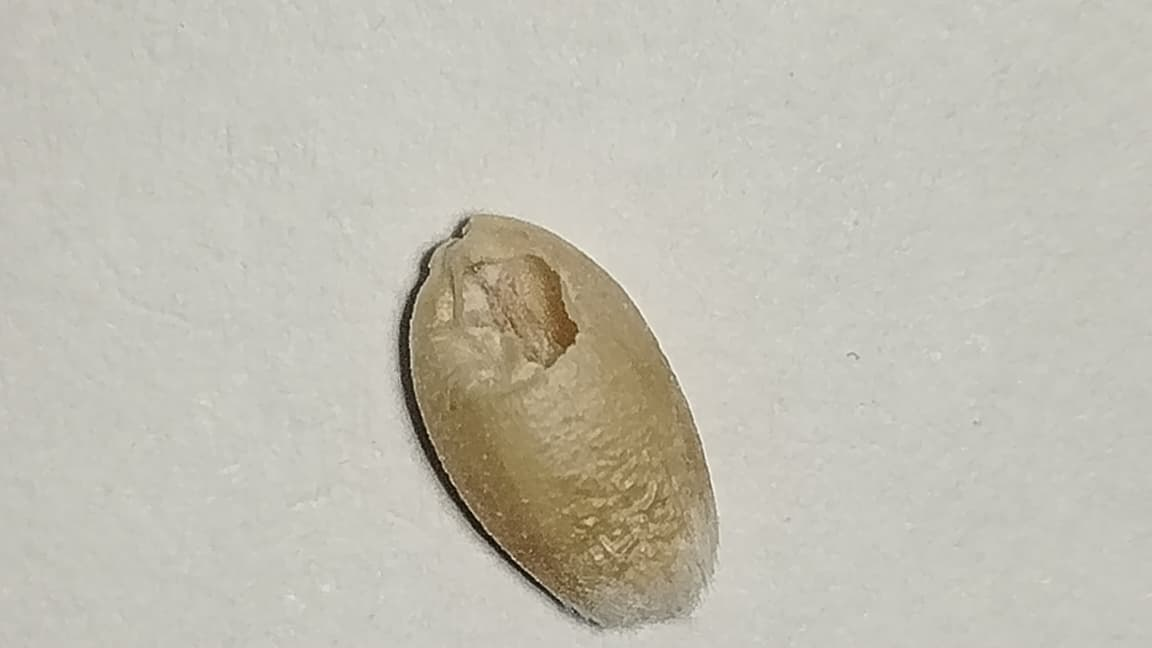damage: (410, 215, 717, 625)
insectdamage: (445, 247, 588, 368)
